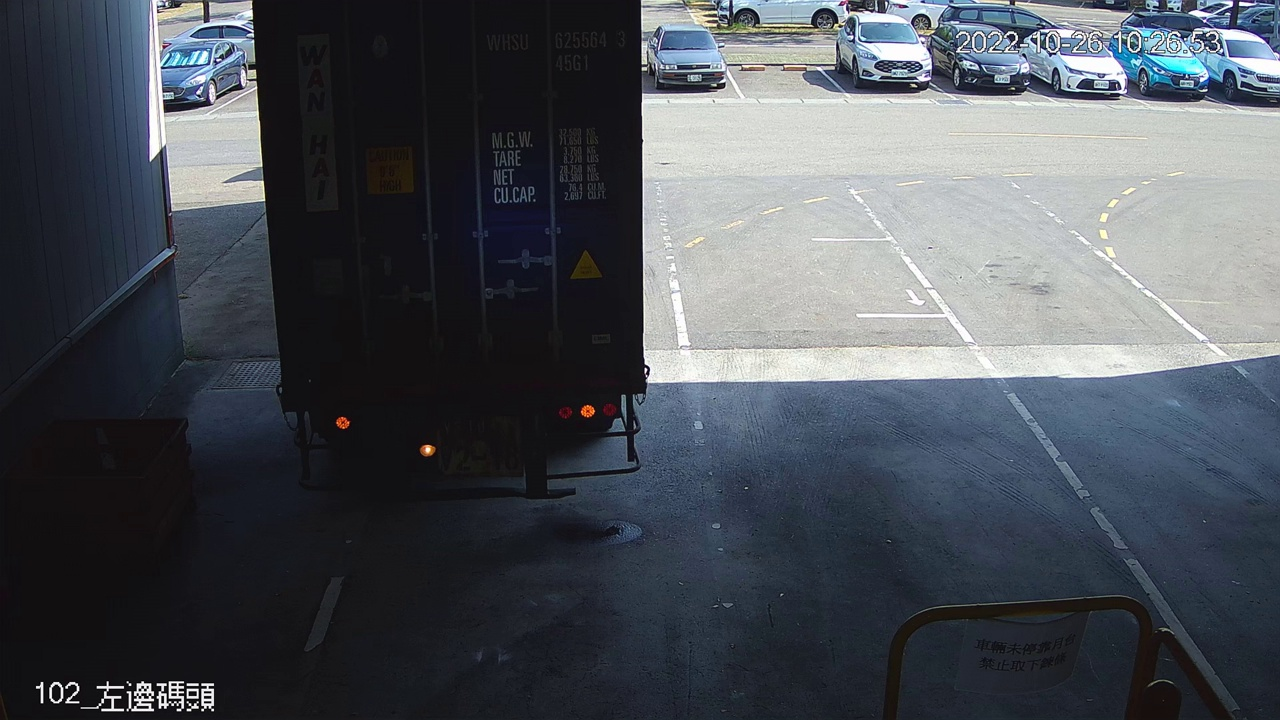container: (479, 23, 631, 81)
